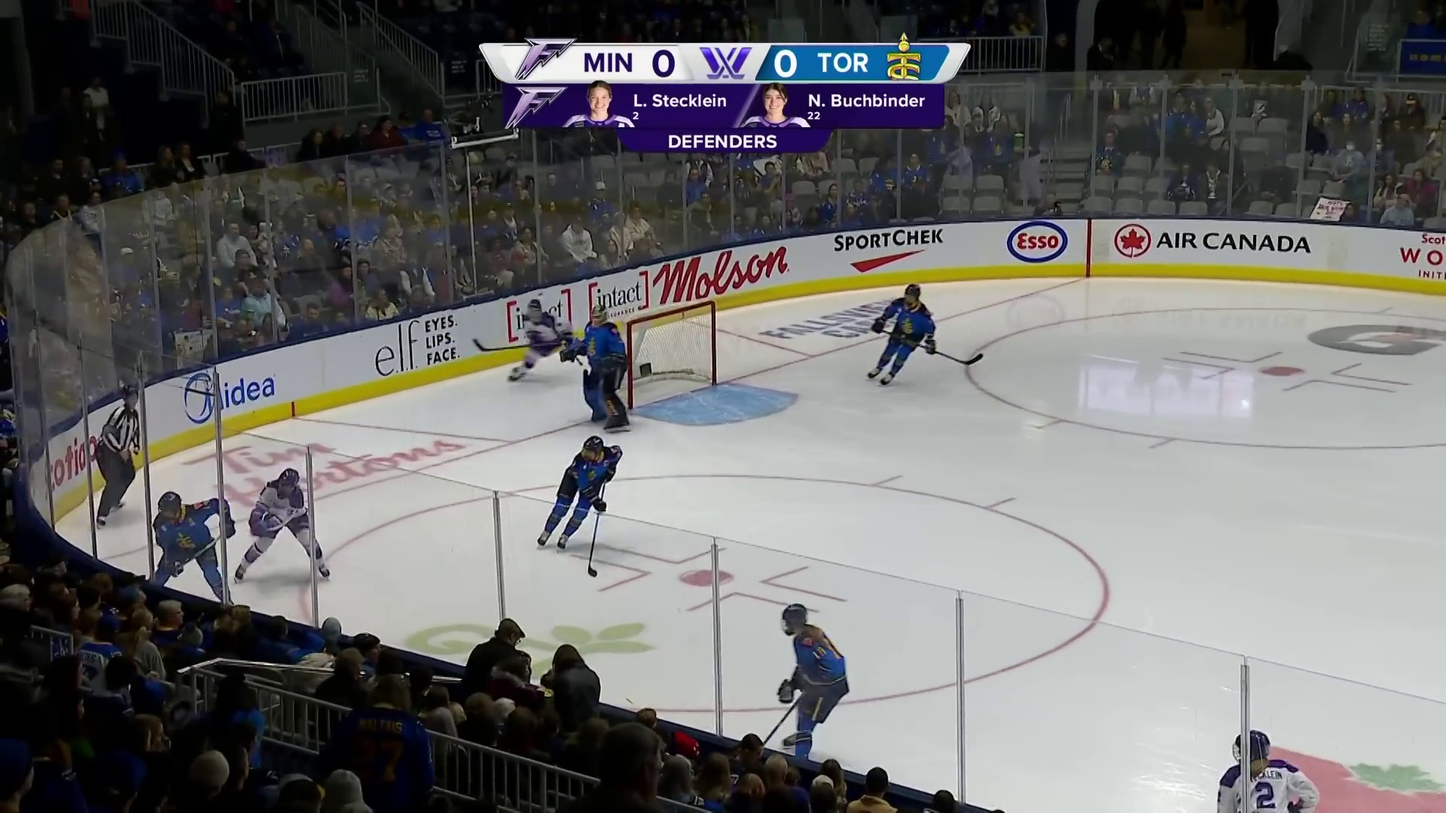goalkeeper: (563, 303, 631, 435)
player: (778, 602, 858, 761), (232, 466, 332, 582), (145, 490, 236, 601), (537, 436, 624, 550), (870, 284, 938, 388), (506, 300, 568, 382)
referee: (95, 383, 142, 528)
